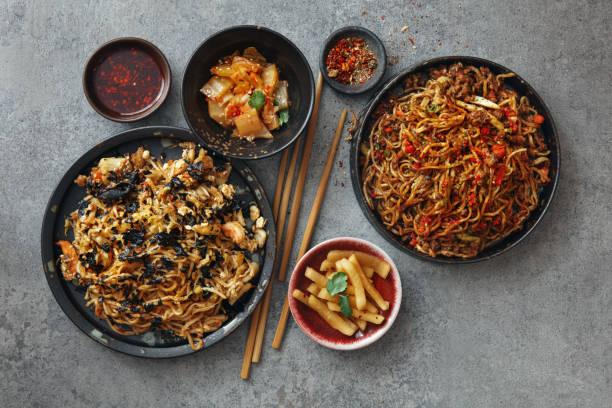Braised Crucian Carp: (40, 126, 273, 358), (351, 56, 558, 264), (179, 24, 313, 159), (286, 236, 403, 351)
